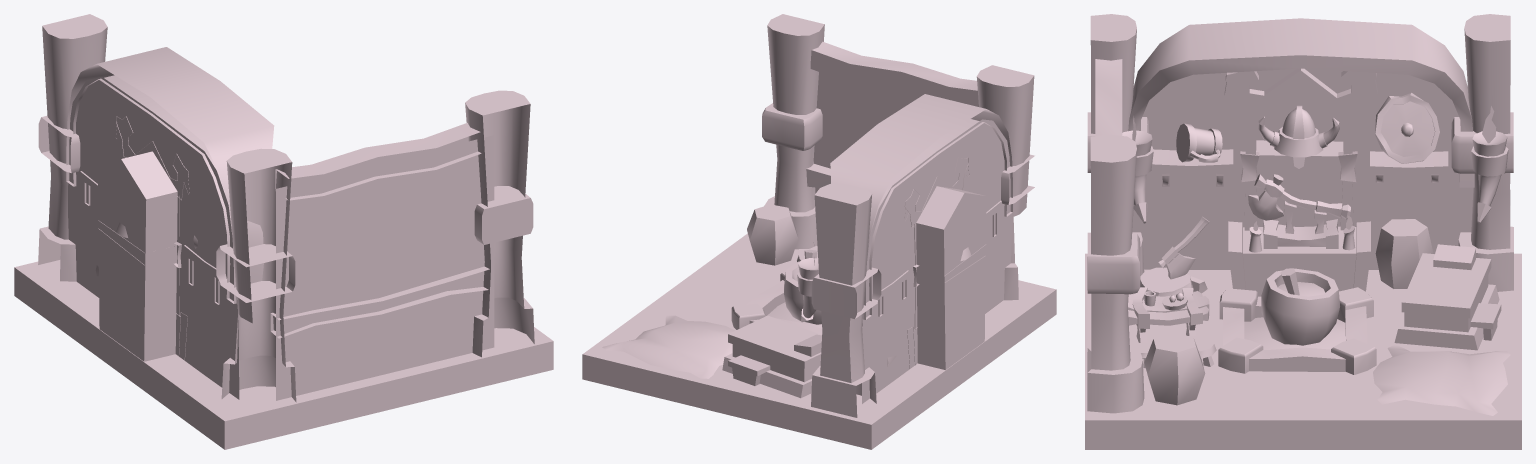
File: viking.glb
The picture shows the model from 3 angles, left to right: view 1: azimuth 30°, elevation 25°; view 2: azimuth 150°, elevation 25°; view 3: azimuth 270°, elevation 25°; orthographic projection. The views are drawn at different scales.
Parts seen in each view (by area): view 1: mesh_all1_Texture1_0; view 2: mesh_all1_Texture1_0; view 3: mesh_all1_Texture1_0.
Part boxes in pixels (bbox=[...]): mesh_all1_Texture1_0: bbox=[14, 14, 553, 449]; mesh_all1_Texture1_0: bbox=[582, 14, 1056, 449]; mesh_all1_Texture1_0: bbox=[1085, 14, 1521, 449].
Bounding box in the file's own units: 1.33 × 1.03 × 1.46.
